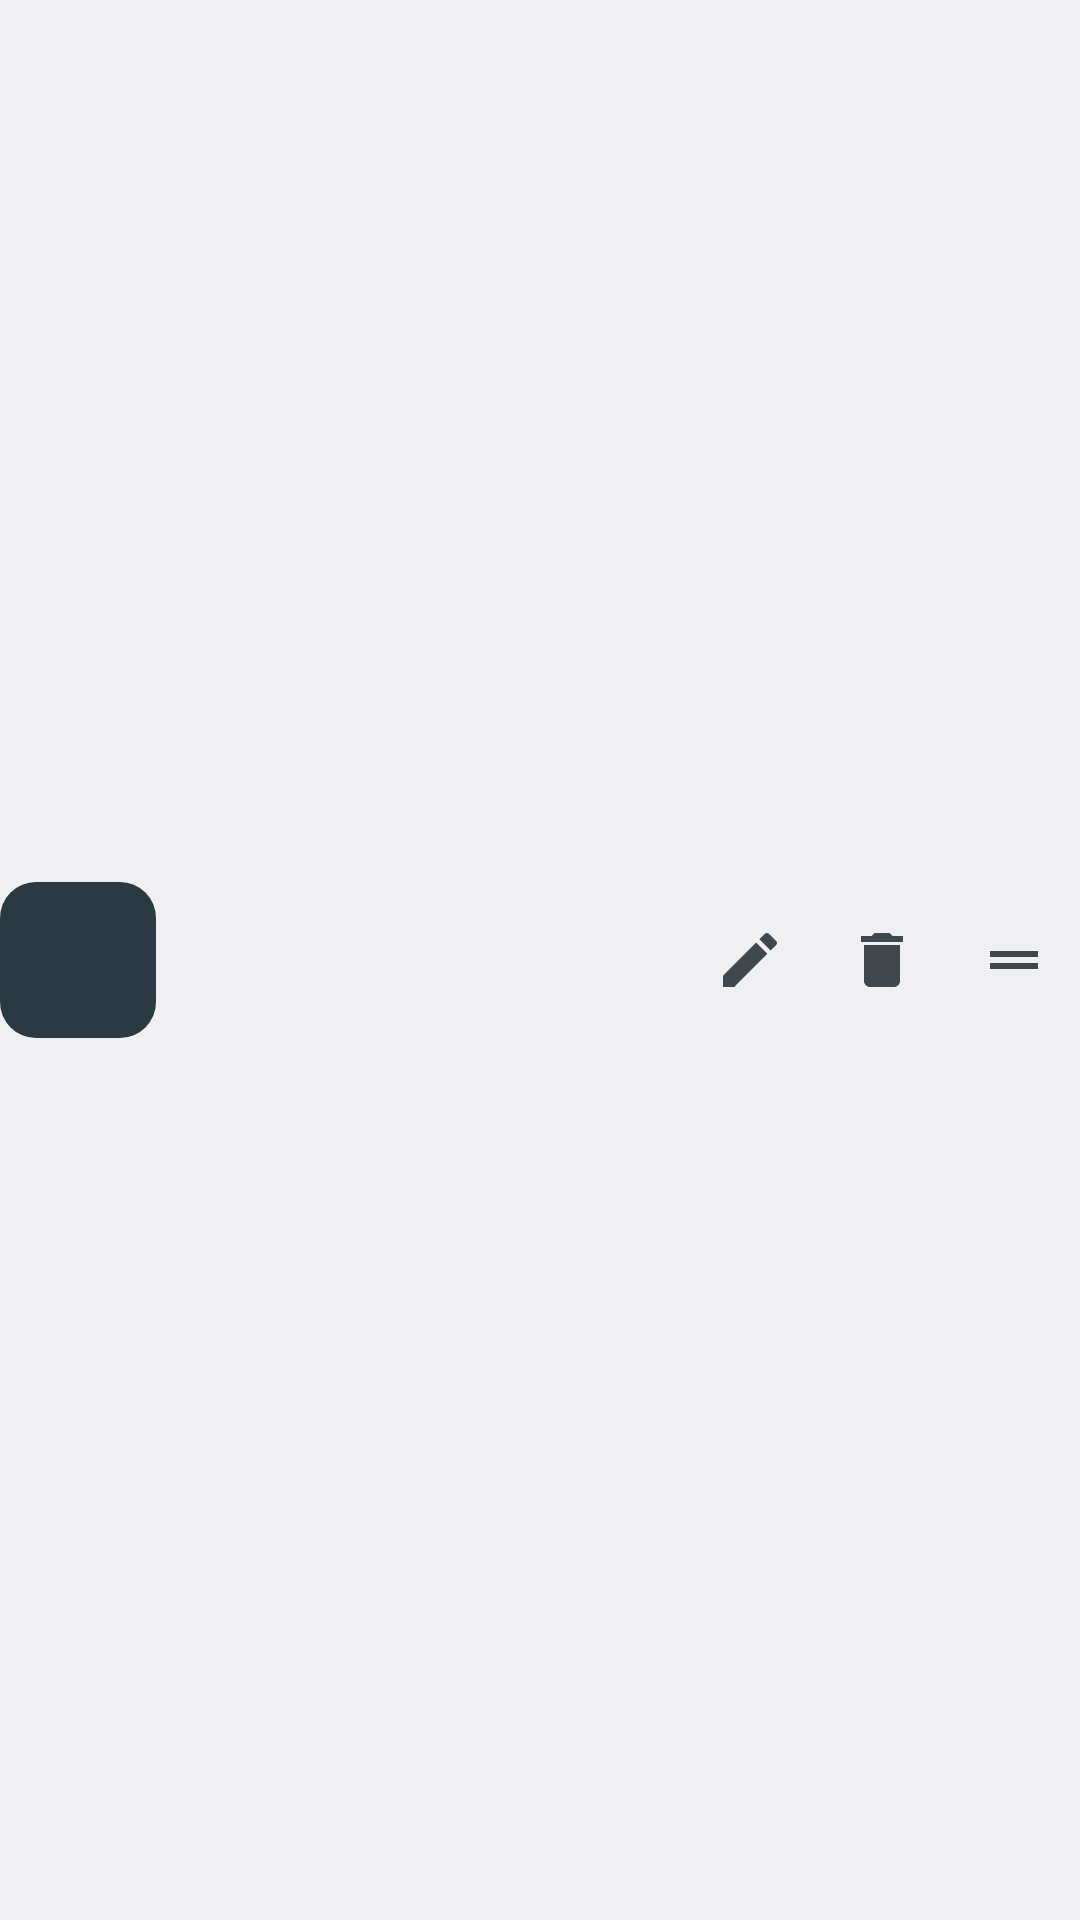

Icon bounding boxes for this 1080 × 1920 phone screenshot, format {"x1": x1, "y1": y1, "x2": x2, "y2": y2}:
delete: {"x1": 861, "y1": 933, "x2": 903, "y2": 987}
drag handle: {"x1": 990, "y1": 951, "x2": 1038, "y2": 969}
edit: {"x1": 723, "y1": 933, "x2": 777, "y2": 987}
